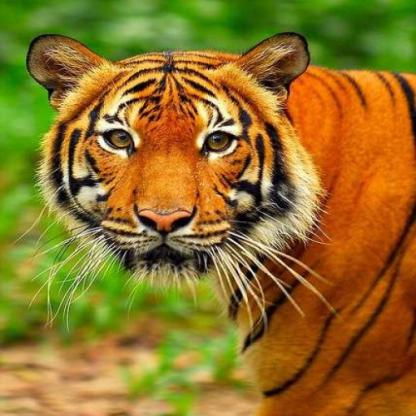Tiger: (22, 26, 415, 415)
